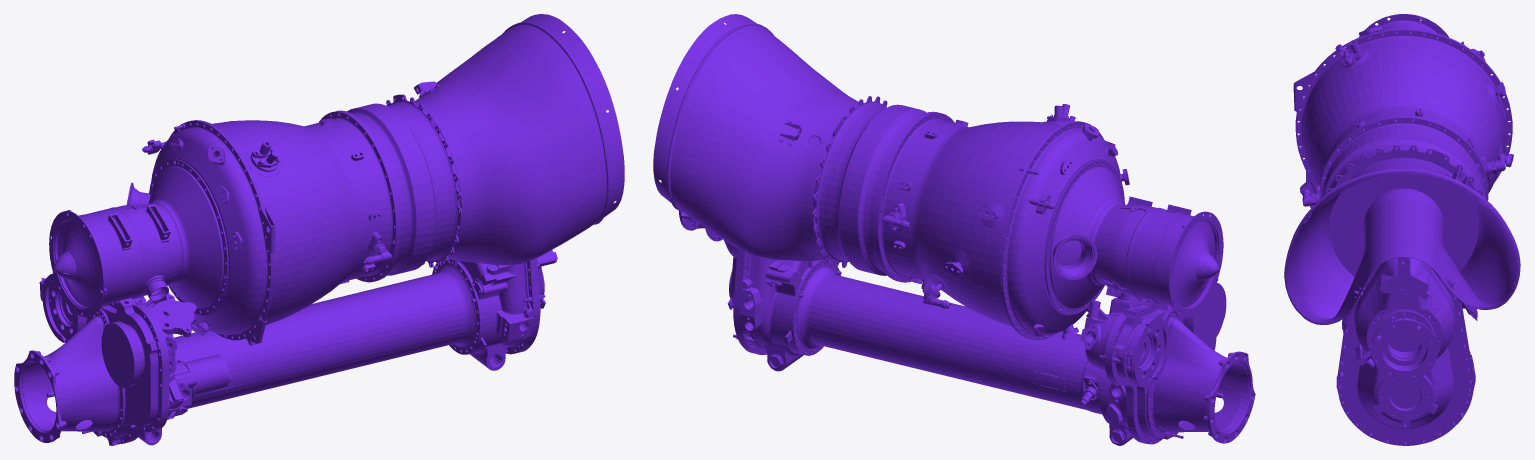
File: exhaust_nozzle_y_draco.glb
3 renders of one model, left to right at view 1: azimuth 30°, elevation 25°; view 2: azimuth 150°, elevation 25°; view 3: azimuth 270°, elevation 25°, orthographic. The views are drawn at different scales.
Visible parts, largest first — view 1: exhaust_nozzle_8; view 2: exhaust_nozzle_8; view 3: exhaust_nozzle_8.
Part boxes in pixels (x1=…): exhaust_nozzle_8: x1=14, y1=14, x2=624, y2=445; exhaust_nozzle_8: x1=653, y1=14, x2=1255, y2=445; exhaust_nozzle_8: x1=1284, y1=14, x2=1520, y2=445.
Size of the model in its own units: 1033 by 578 by 405.
